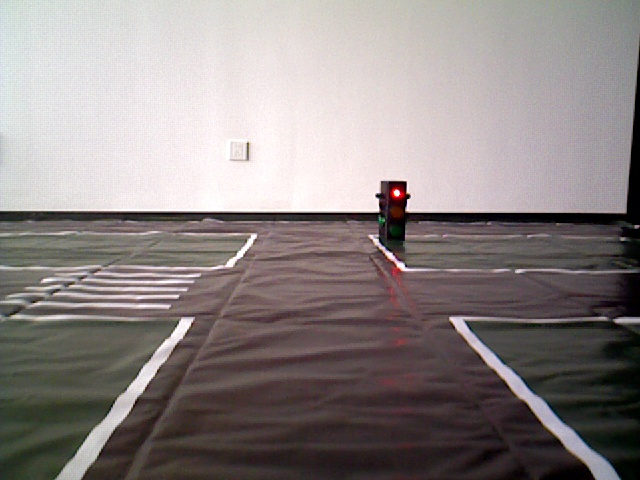red: (379, 182, 407, 241)
